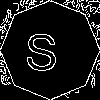S: (25, 25, 58, 71)
